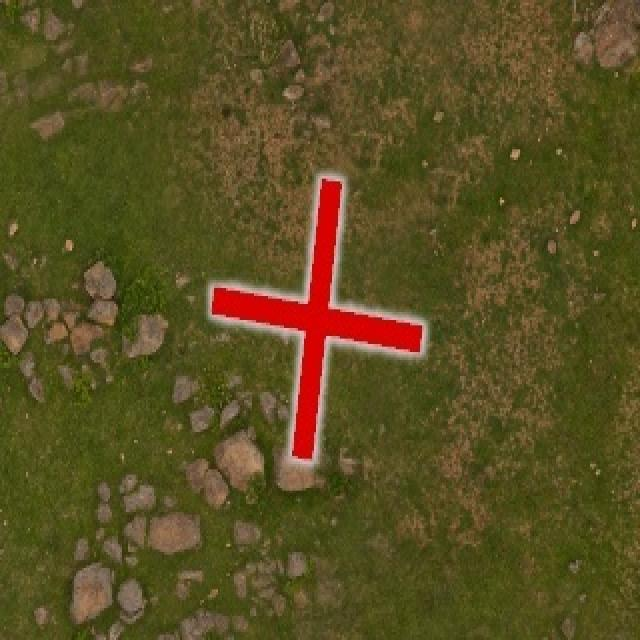x_marker: (211, 177, 423, 460)
